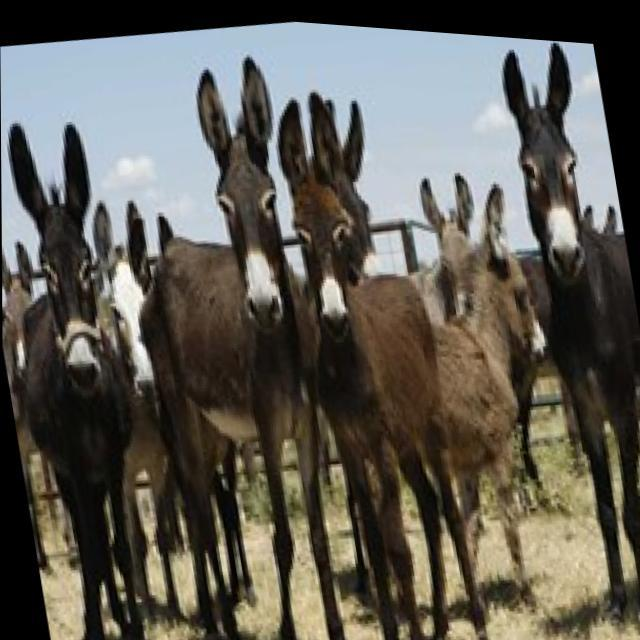Donkey: (96, 38, 370, 640), (327, 152, 593, 640), (270, 69, 489, 640), (1, 108, 174, 640), (496, 29, 640, 629), (397, 157, 548, 612), (74, 190, 212, 627), (410, 162, 574, 516), (1, 236, 80, 571)
